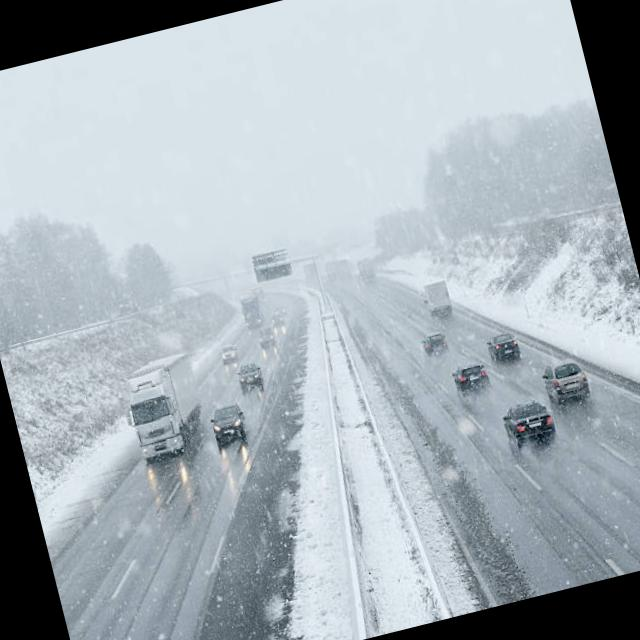Vehicle: (108, 349, 214, 470), (486, 386, 562, 471), (539, 352, 603, 414), (412, 263, 462, 326), (208, 398, 255, 459), (441, 351, 497, 399), (230, 281, 274, 329), (486, 324, 526, 365), (408, 324, 451, 356), (234, 358, 267, 399), (213, 332, 241, 366), (256, 330, 276, 354), (268, 309, 288, 333)
